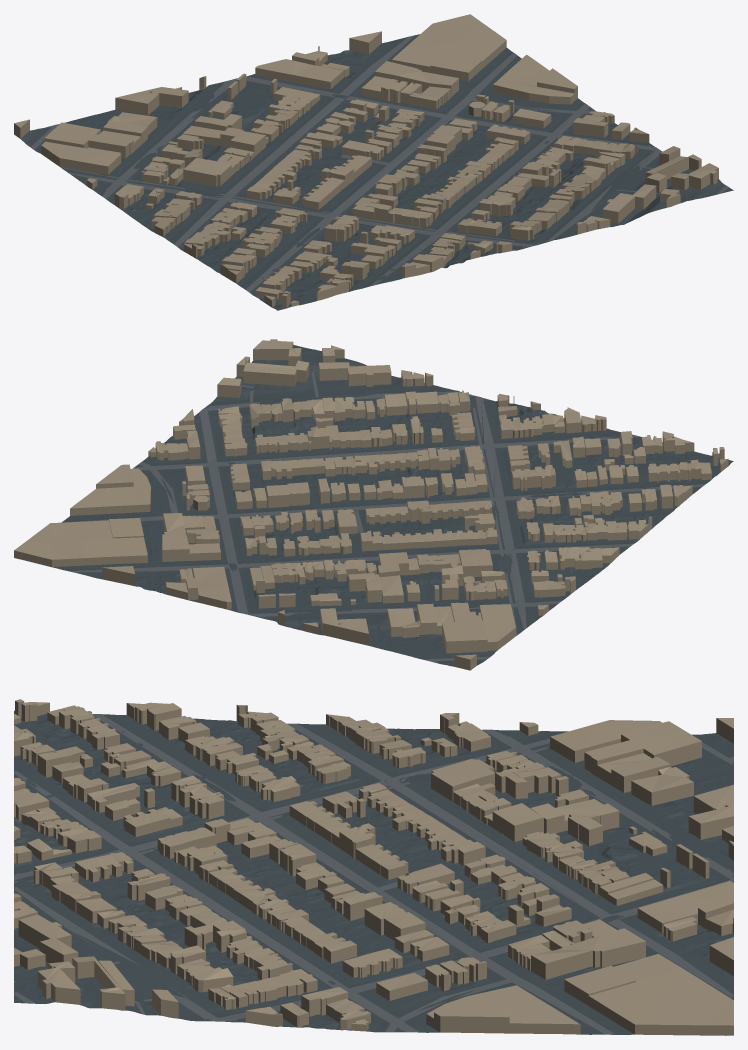
Rendered from epsg26910-1443-10874.lod0.glb.
3 views of the same model, one above another, from view 1: azimuth 30°, elevation 25°; view 2: azimuth 150°, elevation 25°; view 3: azimuth 270°, elevation 25° (orthographic). The views are drawn at different scales.
Visible parts, largest first — view 1: epsg26910-1443-10874-lod0; view 2: epsg26910-1443-10874-lod0; view 3: epsg26910-1443-10874-lod0.
Boxes of the visible parts, left/top/right/bottom form: epsg26910-1443-10874-lod0: left=14, top=14, right=733, bottom=310; epsg26910-1443-10874-lod0: left=14, top=339, right=733, bottom=670; epsg26910-1443-10874-lod0: left=14, top=699, right=733, bottom=1035.
Bounding box in the file's own units: 384 × 30.89 × 384.
